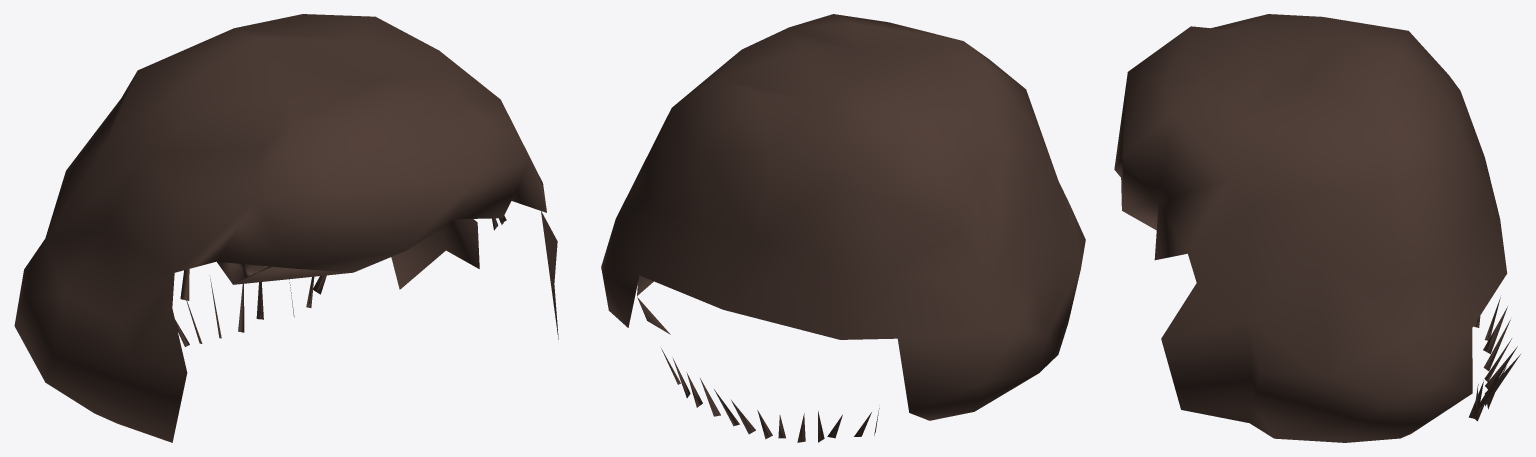
Rendered from blunt-bob.glb.
The picture shows the model from 3 angles, left to right: view 1: azimuth 30°, elevation 25°; view 2: azimuth 150°, elevation 25°; view 3: azimuth 270°, elevation 25°; orthographic projection. The views are drawn at different scales.
Parts seen in each view (by area): view 1: Hair, HairPulledRootStrands; view 2: Hair, HairPulledRootStrands; view 3: Hair, HairPulledRootStrands.
Boxes of the visible parts, x1,y1,x2,y2 form: Hair: (14,14,558,442); HairPulledRootStrands: (175,215,506,346); Hair: (601,14,1085,420); HairPulledRootStrands: (661,348,879,442); Hair: (1114,14,1507,442); HairPulledRootStrands: (1468,297,1520,421).
Size of the model in its own units: 0.5026 by 0.3741 by 0.4007.
